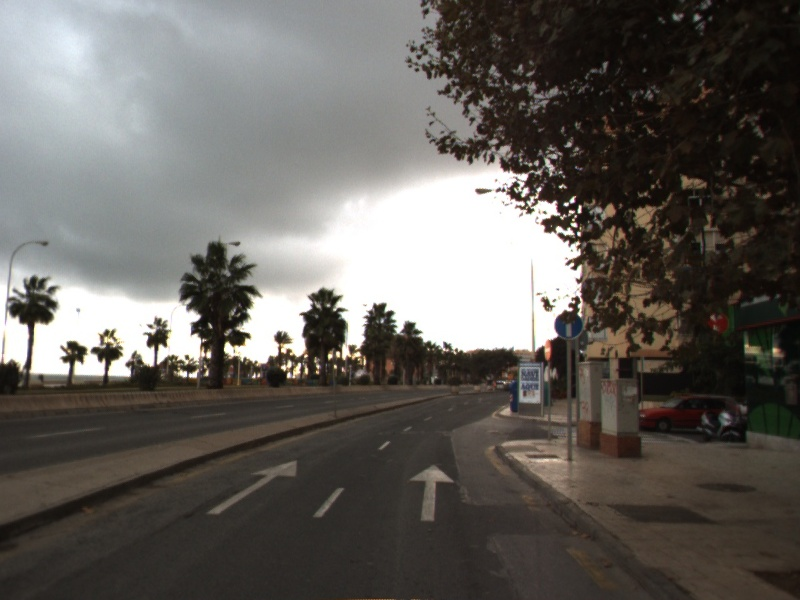STRAIGHT: (204, 459, 299, 516), (408, 463, 456, 523)
